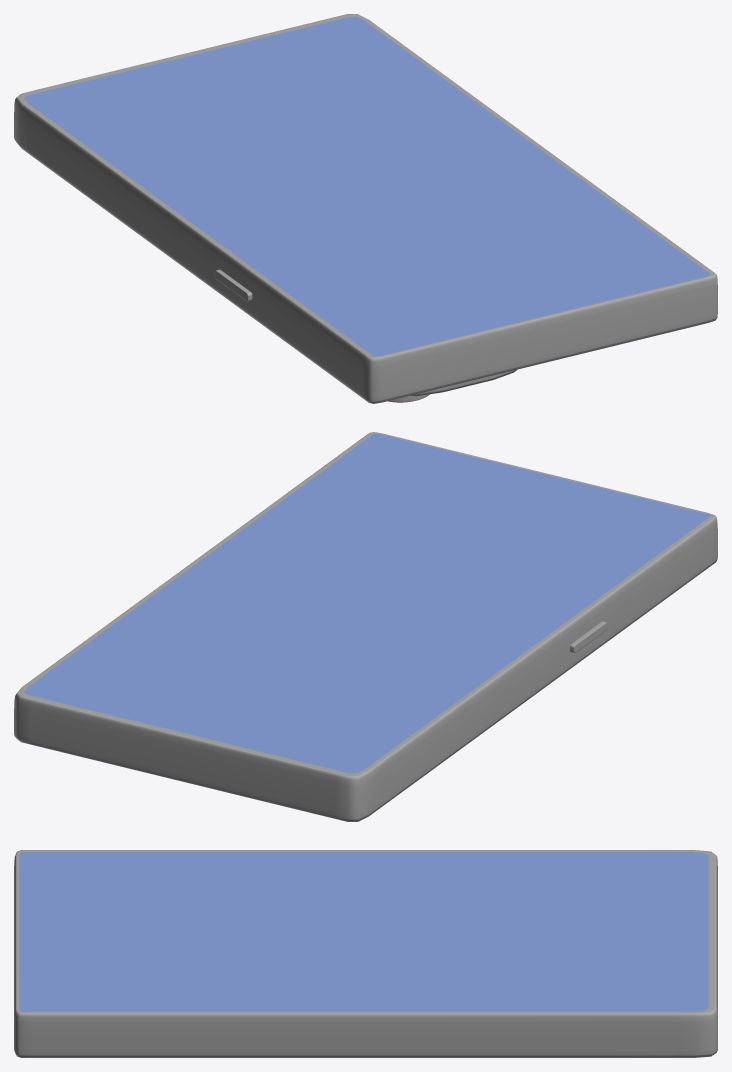
File: Phone.fbx
3 renders of one model, top to bottom at view 1: azimuth 30°, elevation 25°; view 2: azimuth 150°, elevation 25°; view 3: azimuth 270°, elevation 25°, orthographic. The views are drawn at different scales.
Parts seen in each view (by area): view 1: pCube13; view 2: pCube13; view 3: pCube13.
Boxes of the visible parts, x1=… form: pCube13: x1=14, y1=14, x2=717, y2=403; pCube13: x1=14, y1=432, x2=717, y2=821; pCube13: x1=14, y1=850, x2=717, y2=1057.
Bounding box in the file's own units: 13.02 × 2.71 × 23.05.
